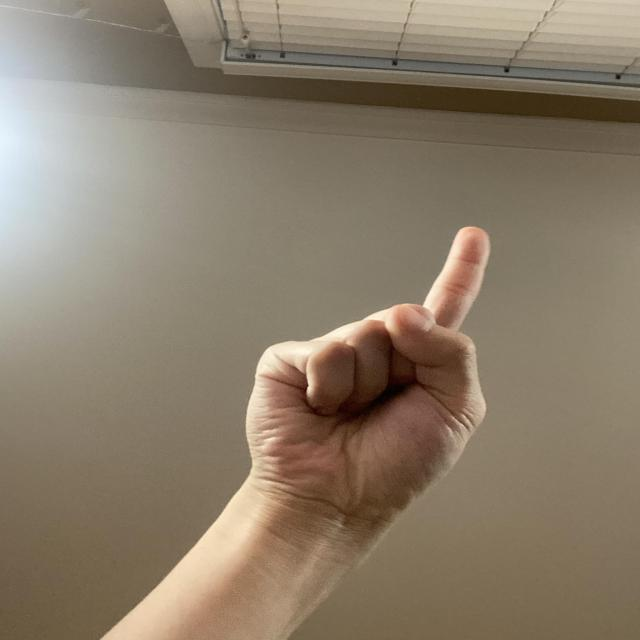Z: (229, 219, 503, 540)
